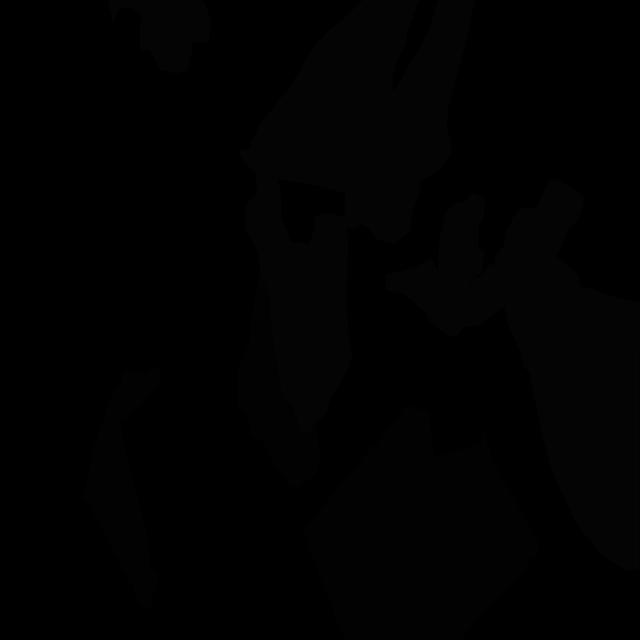cardboard: (304, 406, 539, 640), (82, 367, 162, 609), (237, 272, 321, 489)
soft_plastic: (239, 0, 475, 311), (464, 179, 640, 572), (245, 179, 352, 434), (386, 193, 485, 336), (108, 0, 210, 74)
